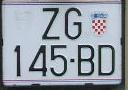-: (70, 59, 74, 62)
1: (14, 45, 22, 77)
4: (29, 45, 47, 76)
5: (51, 44, 67, 76)
B: (78, 45, 94, 76)
D: (98, 45, 115, 75)
G: (65, 7, 82, 40)
Z: (42, 8, 60, 40)
